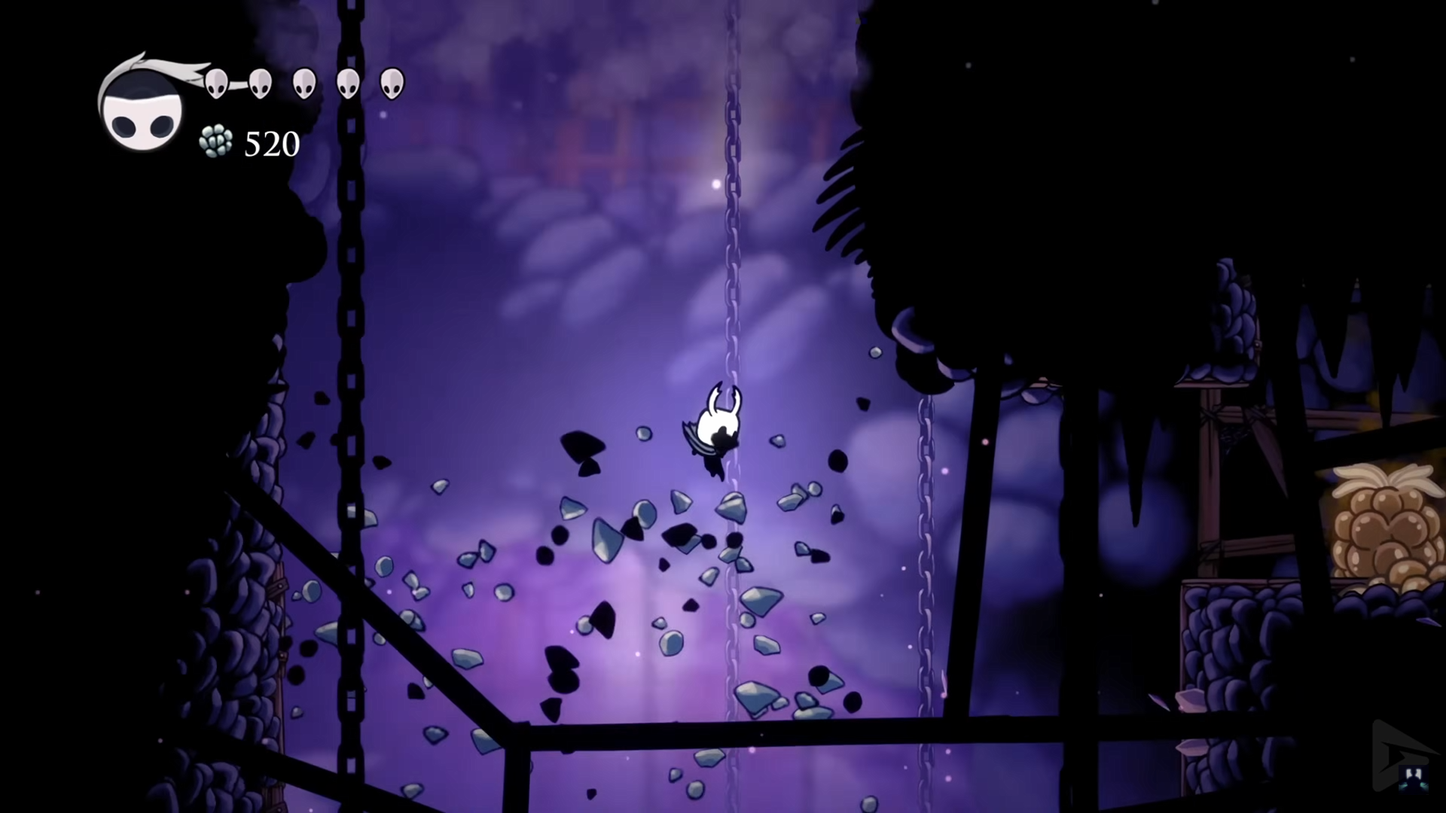HK: (680, 380, 750, 478)
